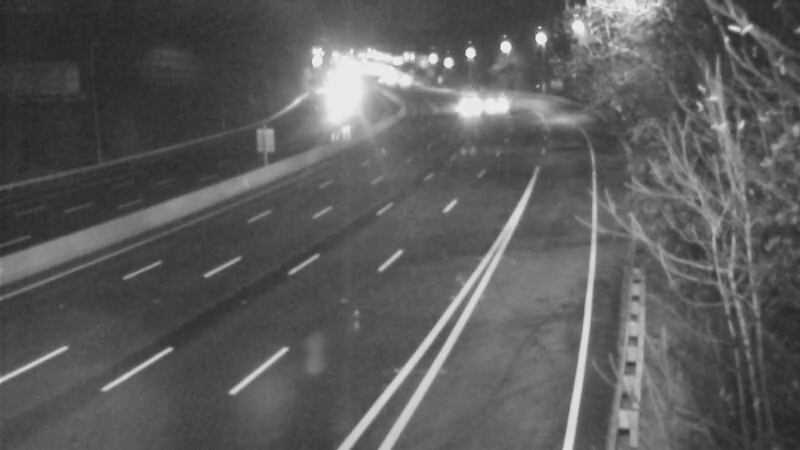vehicle: (376, 55, 426, 105), (436, 79, 486, 129), (474, 81, 524, 131)
